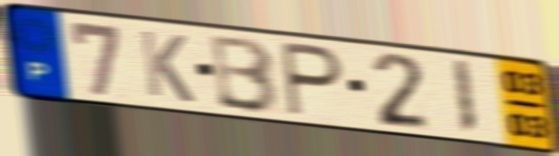2: (369, 51, 432, 131)
7: (66, 17, 126, 99)
B: (209, 33, 283, 116)
I: (449, 57, 480, 138)
K: (136, 27, 197, 106)
P: (279, 38, 347, 121)
